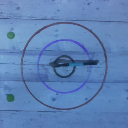Axe Tip: (49, 62, 61, 64)
